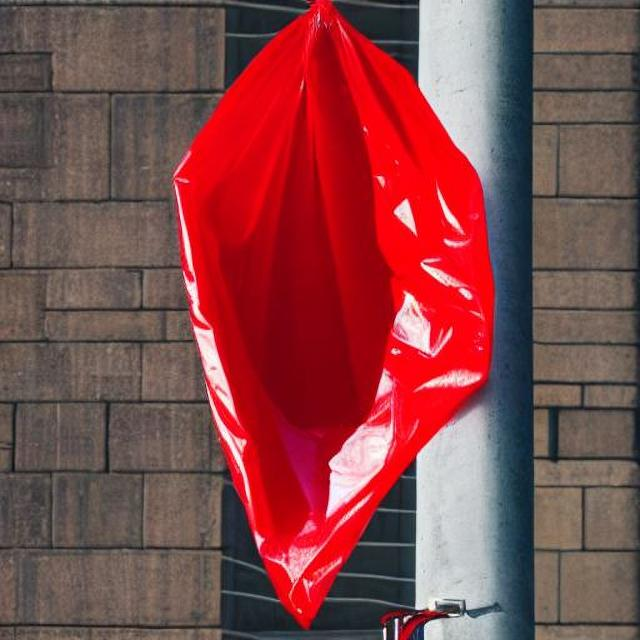plastic bag: (170, 6, 493, 632)
